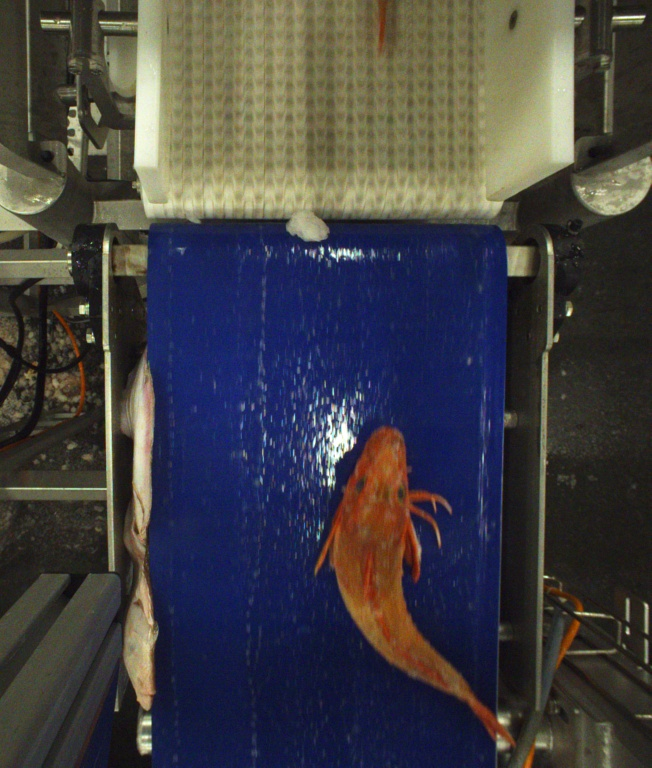GUU: (376, 0, 385, 55)
